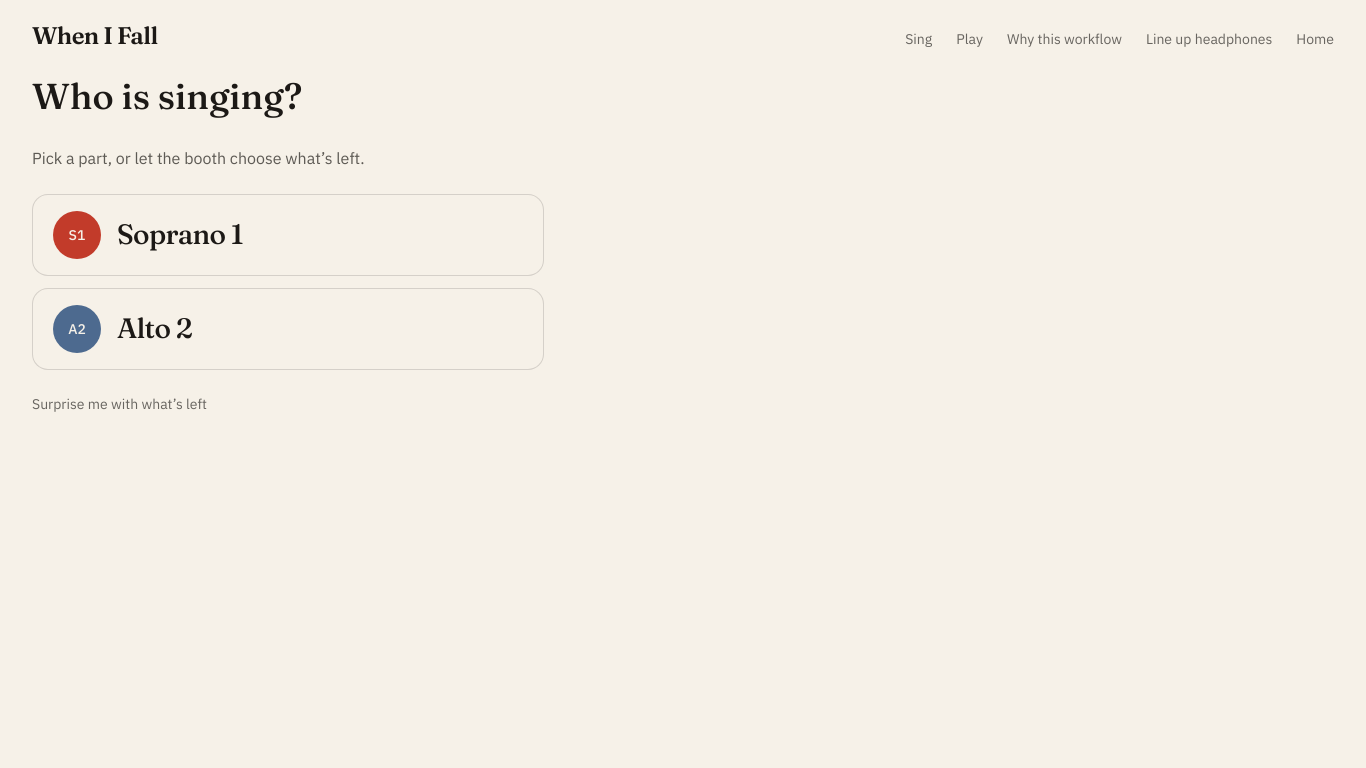
Test case: SingPage booth flow › shows the lyric after picking a part and keeps Record
Expected: the button "A2 Alto 2" is shown, [32,288,544,370]
Expected: the button "Surprise me with what’s left" is shown, [32,394,207,414]
Click the button "S1 Soprano 1". click: coordinates (77, 234)
box: [32,194,544,276]
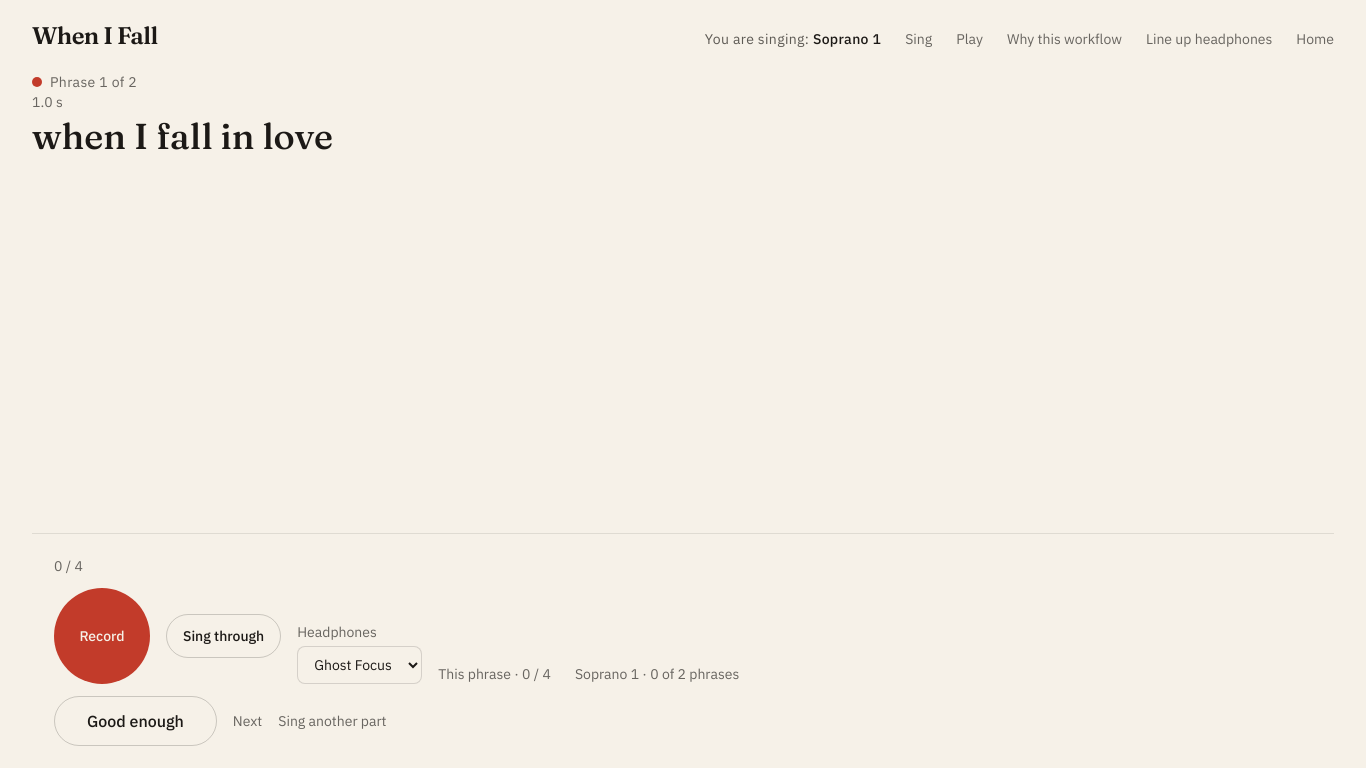
Now the text "when I fall in love" is shown, box [32,114,333,158]
Now the text "Phrase 1 of 2" is shown, box [32,73,137,91]
Now the button "Record" is shown, box [54,588,150,684]
